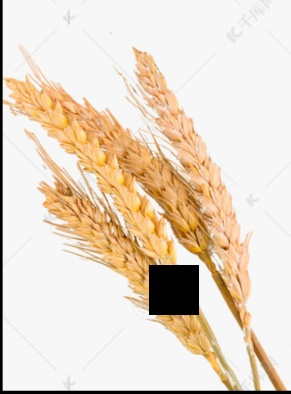wheat: (45, 177, 218, 375), (12, 71, 203, 248), (141, 40, 251, 299)
